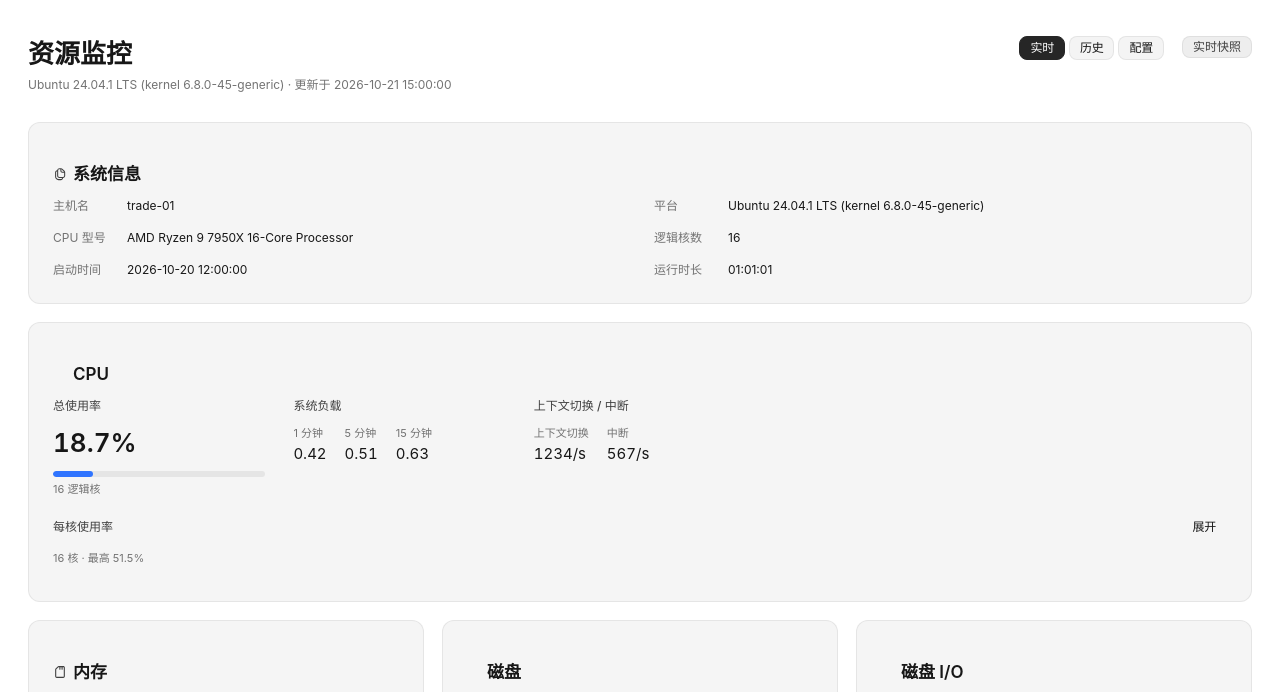
Test: MonitorView 资源监控页（三种快照状态） › 全部可用：系统信息与 CPU 渲染真实数据，资源区块不显示不可用
Click the button with test id "monitor-cpu-detail-toggle": coordinates (1204, 527) [1182,515,1227,539]
(page scrolled)
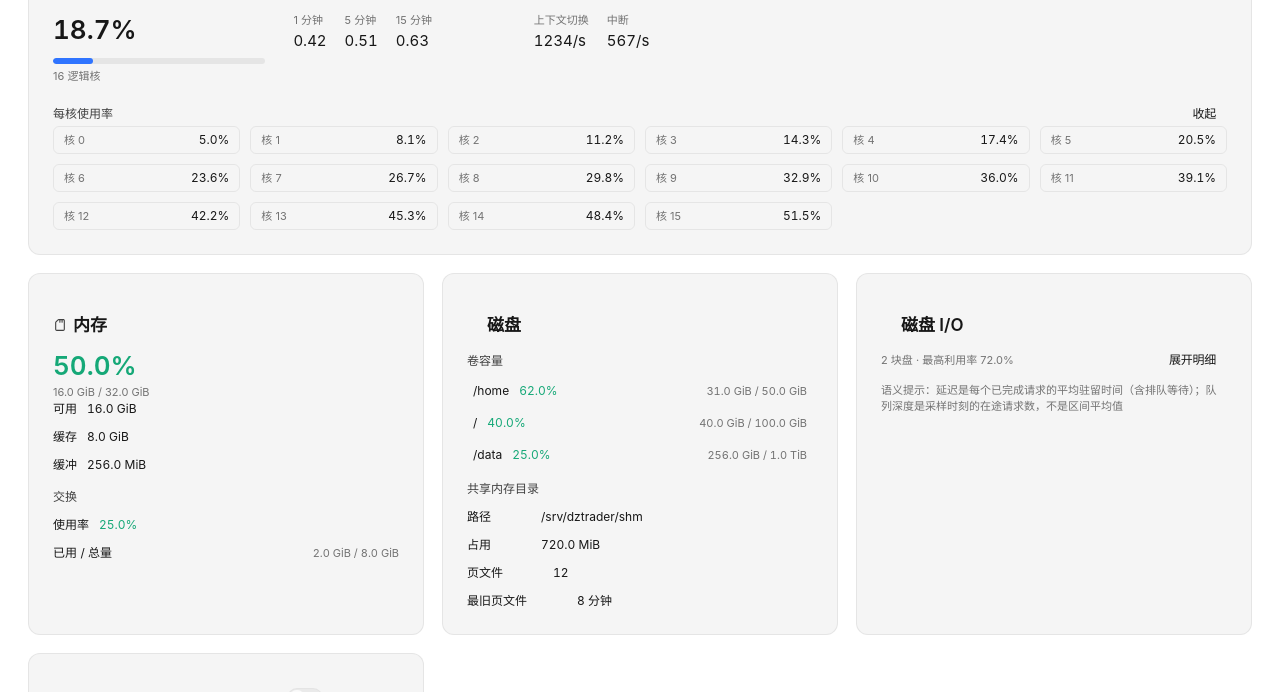
Click the button with test id "monitor-disk-io-detail-toggle": coordinates (1192, 360) [1158,348,1227,372]
(page scrolled)
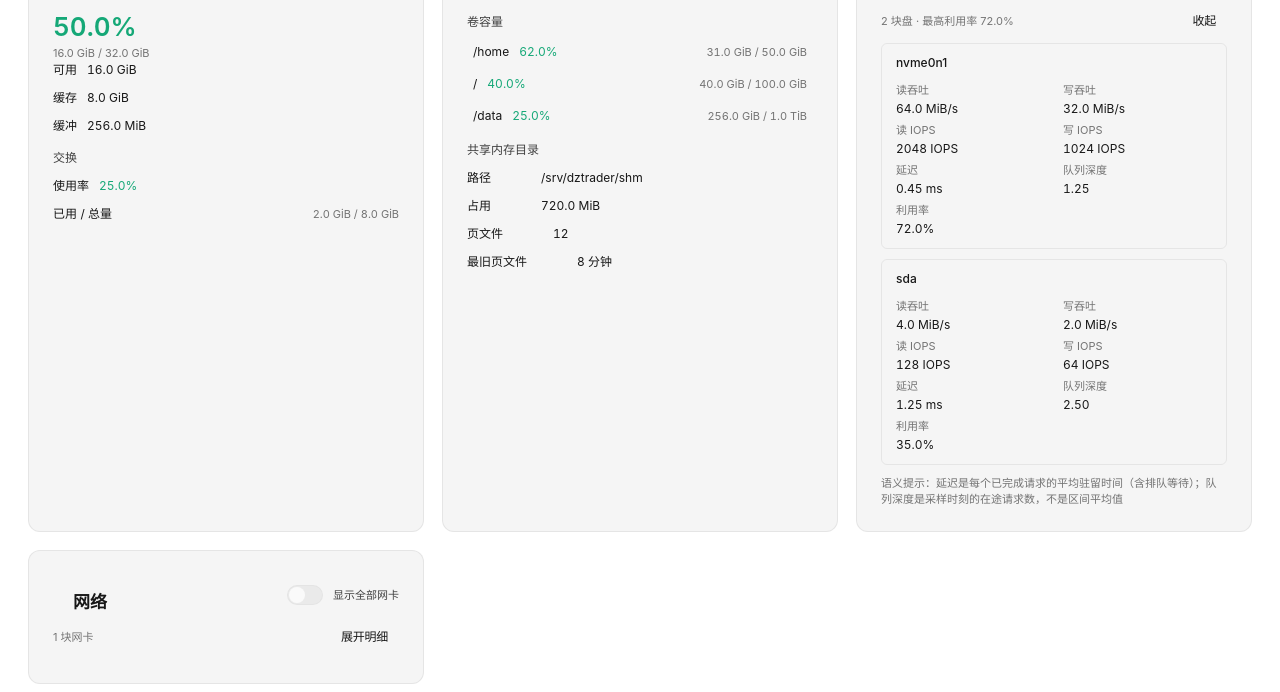
Click the button with test id "monitor-network-detail-toggle": coordinates (364, 637) [330,625,399,649]
(page scrolled)
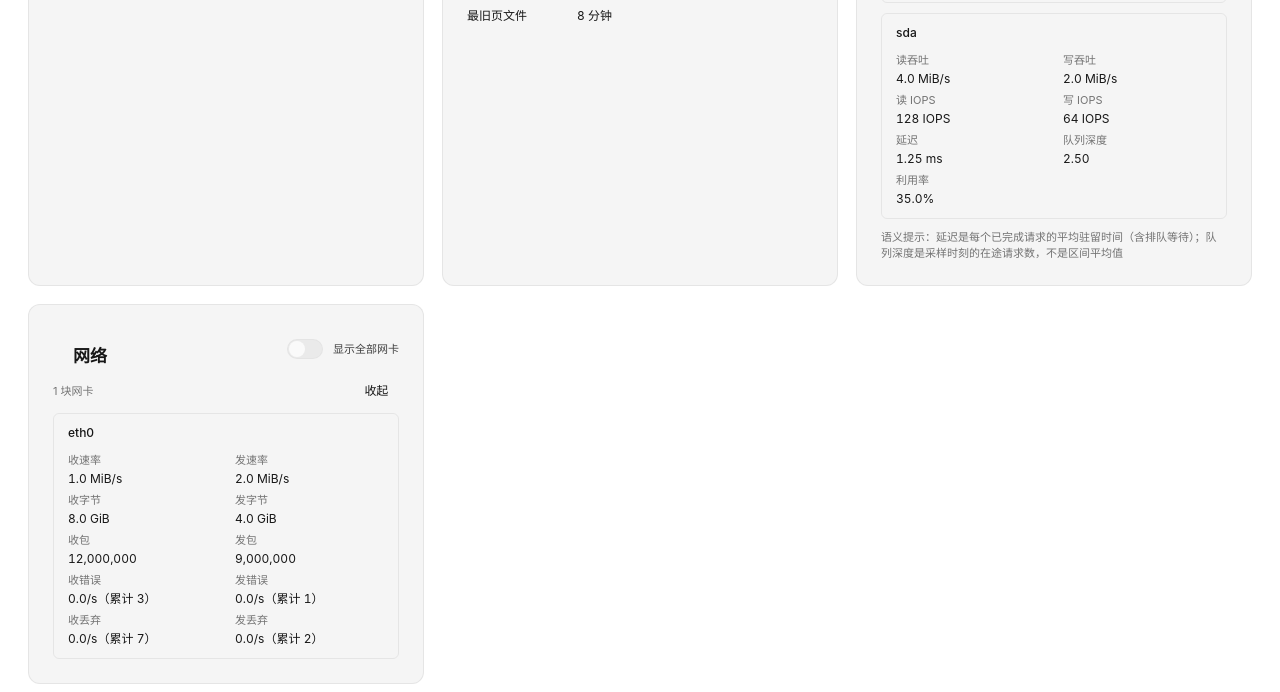
Expected: the element with test id "monitor-network" shows "eth0", [68,425,94,440]
Expected: the text with test id "monitor-network-rx-rate" reads "1.0 MiB/s", [68,471,122,486]
Expected: the text with test id "monitor-network-tx-rate" reads "2.0 MiB/s", [235,471,289,486]
